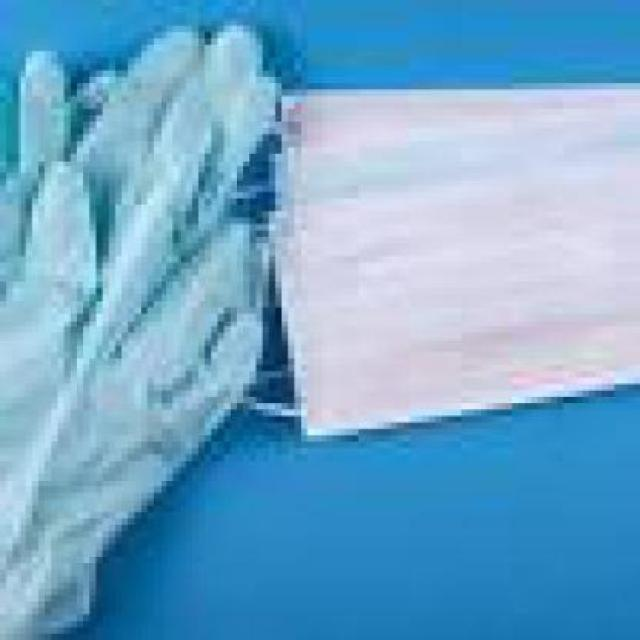B3: (0, 166, 275, 633), (12, 19, 282, 487), (198, 186, 634, 454)
